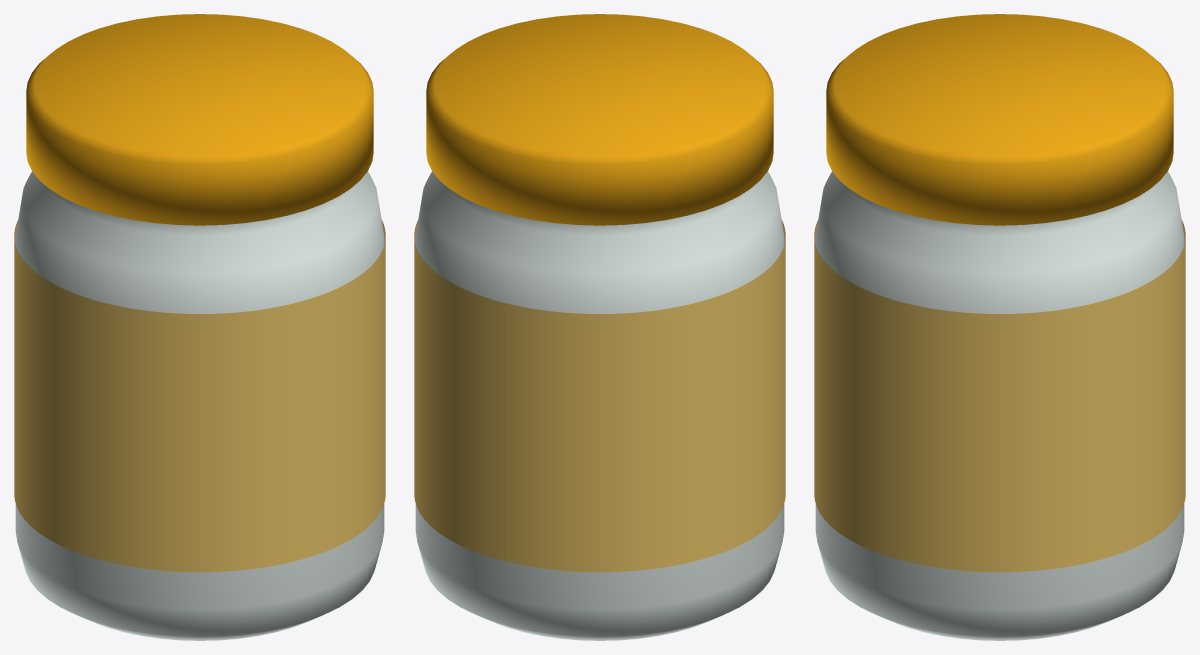
Rendered from jar_honey_minimal.glb.
The picture shows the model from 3 angles, left to right: view 1: azimuth 30°, elevation 25°; view 2: azimuth 150°, elevation 25°; view 3: azimuth 270°, elevation 25°; orthographic projection.
Parts seen in each view (by area): view 1: Label_band, Cap, Glass; view 2: Label_band, Cap, Glass; view 3: Label_band, Cap, Glass.
Boxes of the visible parts, bbox=[...] form: Label_band: bbox=[14, 220, 385, 572]; Cap: bbox=[26, 14, 373, 225]; Glass: bbox=[15, 171, 384, 640]; Label_band: bbox=[414, 220, 785, 572]; Cap: bbox=[426, 14, 773, 225]; Glass: bbox=[415, 171, 784, 640]; Label_band: bbox=[814, 220, 1185, 572]; Cap: bbox=[826, 14, 1173, 225]; Glass: bbox=[815, 171, 1184, 640].
Size of the model in its own units: 0.0887 by 0.13 by 0.0887.
